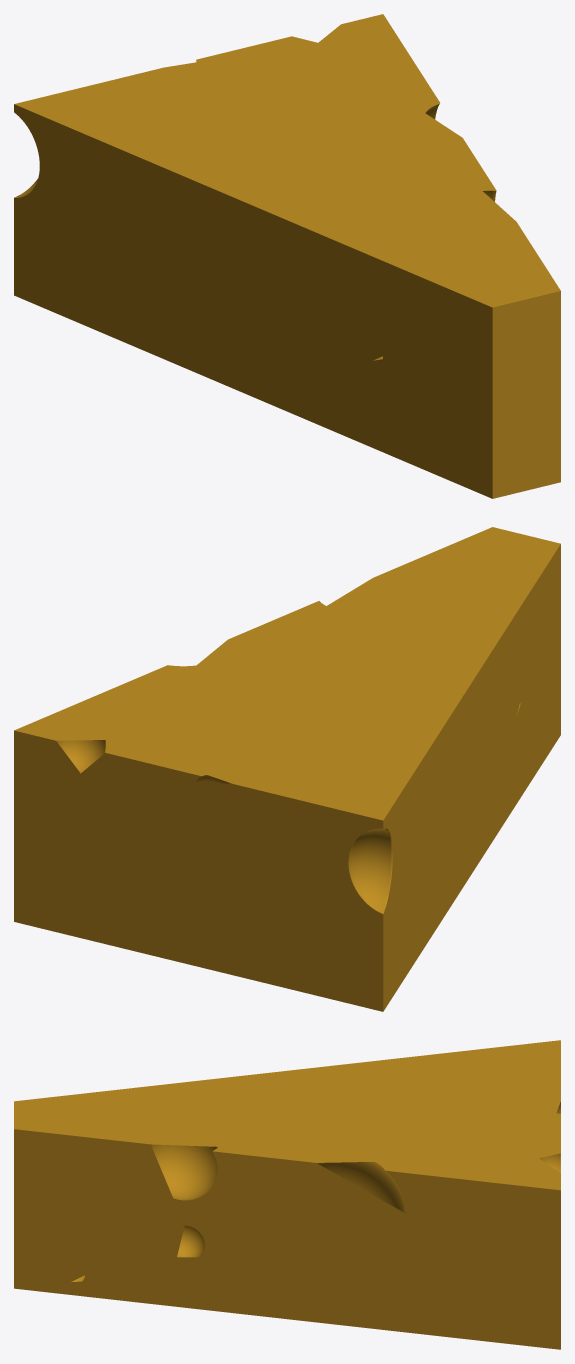
File: cheese.fbx
3 renders of one model, top to bottom at view 1: azimuth 30°, elevation 25°; view 2: azimuth 150°, elevation 25°; view 3: azimuth 270°, elevation 25°, orthographic. The views are drawn at different scales.
Parts seen in each view (by area): view 1: cheese; view 2: cheese; view 3: cheese.
Boxes of the visible parts, bbox=[...] form: cheese: bbox=[14, 14, 560, 498]; cheese: bbox=[14, 527, 560, 1011]; cheese: bbox=[14, 1040, 560, 1349].
Bounding box in the file's own units: 404 × 200 × 622.
